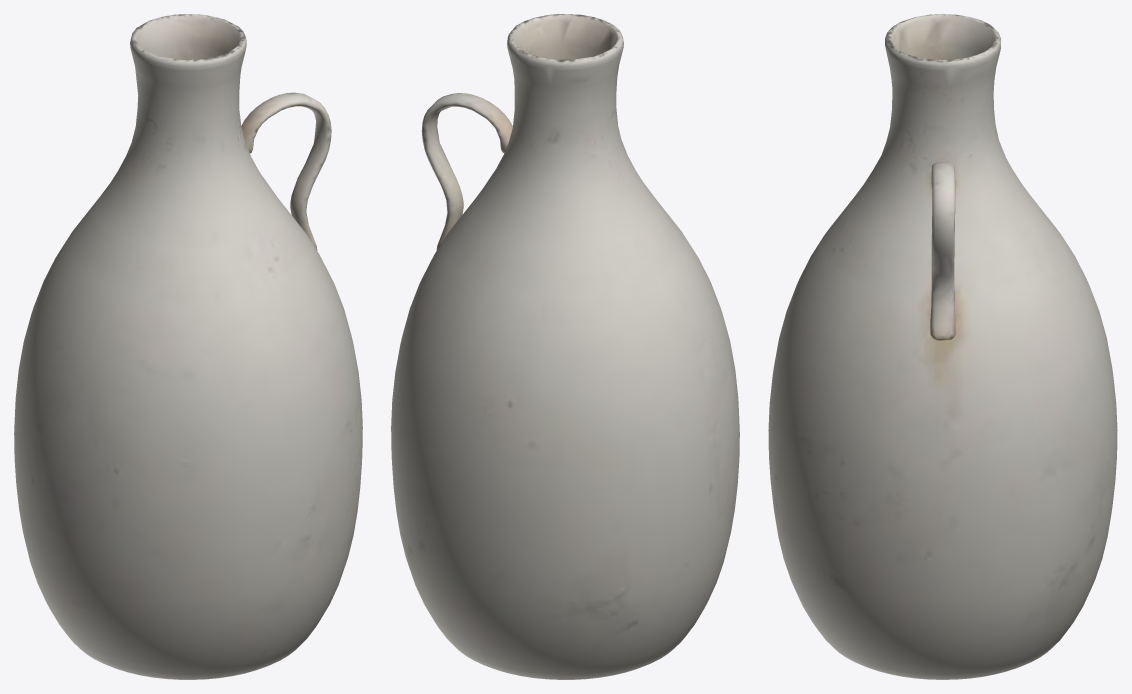
Rendered from ceramic_vase_04.glb.
3 views of the same model, side by side, from view 1: azimuth 30°, elevation 25°; view 2: azimuth 150°, elevation 25°; view 3: azimuth 270°, elevation 25° (orthographic).
Visible parts, largest first — view 1: ceramic_vase_04; view 2: ceramic_vase_04; view 3: ceramic_vase_04.
Boxes of the visible parts, x1=… form: ceramic_vase_04: x1=14, y1=14, x2=362, y2=679; ceramic_vase_04: x1=391, y1=14, x2=739, y2=679; ceramic_vase_04: x1=768, y1=14, x2=1117, y2=679.
Size of the model in its own units: 0.1811 by 0.3419 by 0.1811.
Materials: 1 (1 with a texture image).
